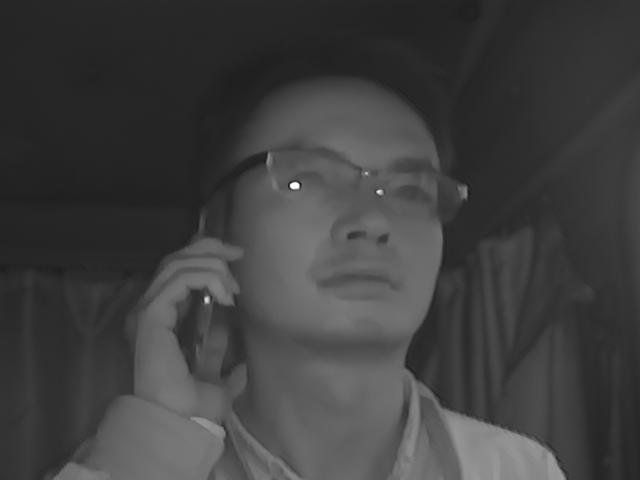hand: (118, 233, 250, 419)
